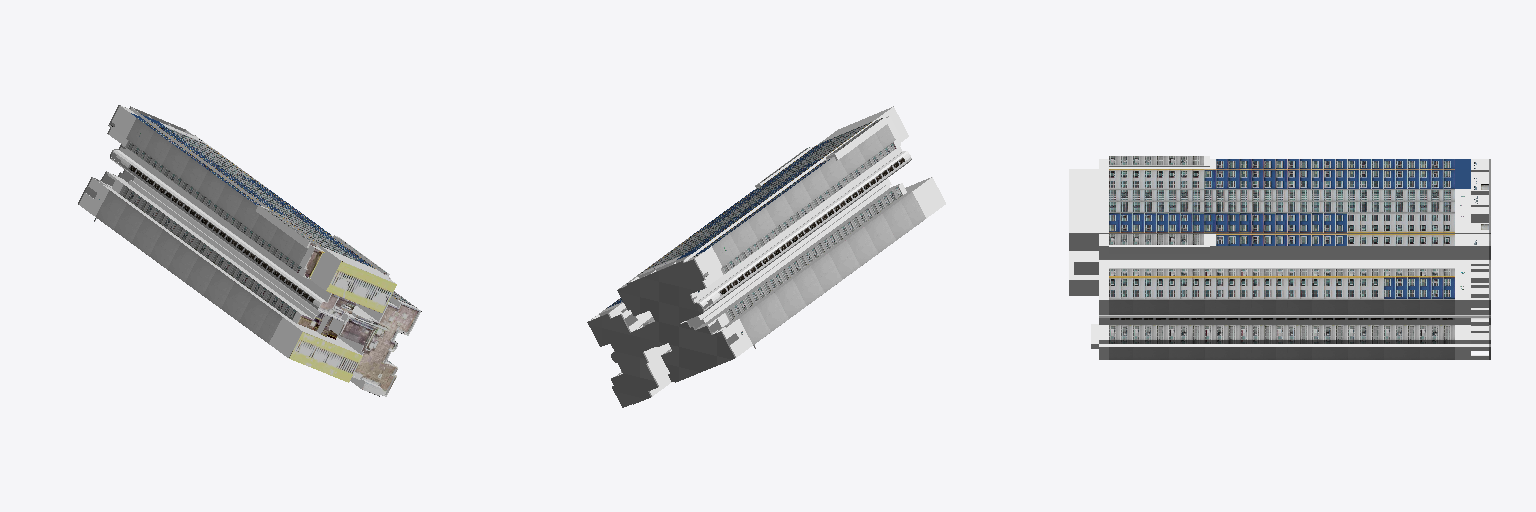
3 renders of one model, left to right at view 1: azimuth 30°, elevation 25°; view 2: azimuth 150°, elevation 25°; view 3: azimuth 270°, elevation 25°, orthographic.
Visible parts, largest first — view 1: polygon.772; view 2: polygon.772; view 3: polygon.772.
Boxes of the visible parts, x1=… form: polygon.772: x1=78, y1=105, x2=421, y2=396; polygon.772: x1=587, y1=106, x2=945, y2=407; polygon.772: x1=1069, y1=156, x2=1490, y2=359.
Bounding box in the file's own units: 41.04 × 44.18 × 100.
Materials: 1 (1 with a texture image).